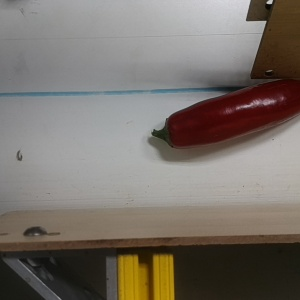Cut Point: (155, 113, 186, 151)
